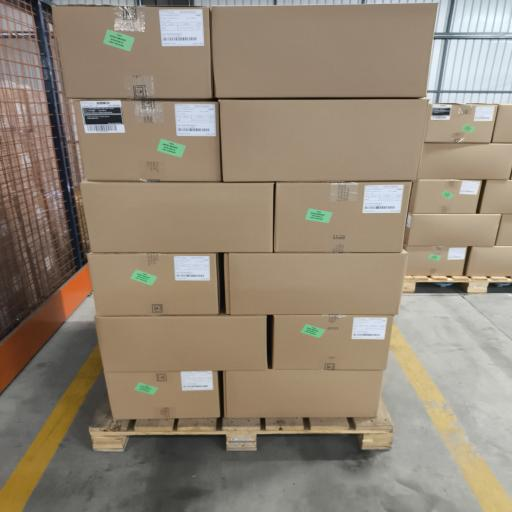pallet: (90, 401, 393, 451), (403, 276, 511, 293)
